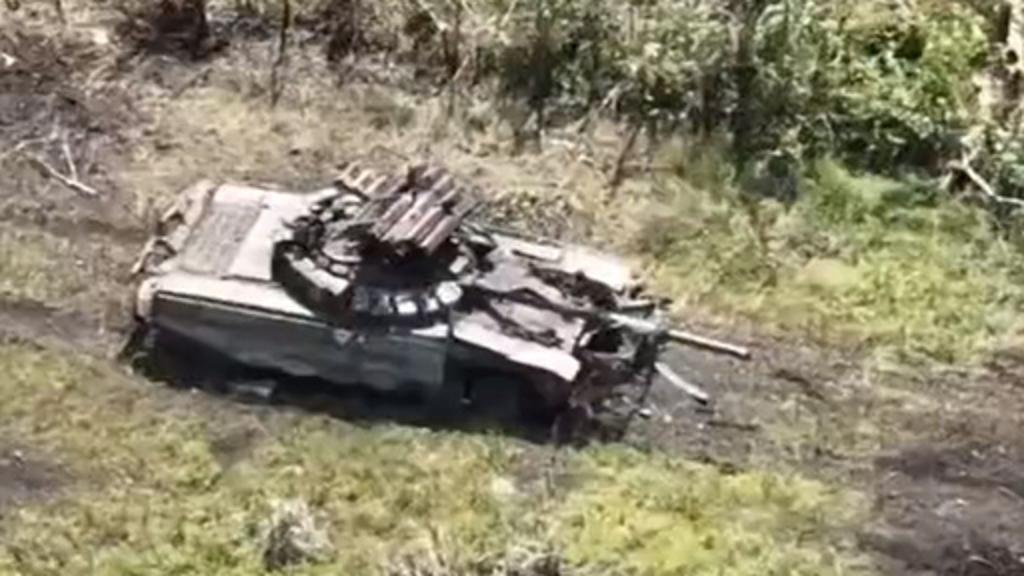TANK: (116, 152, 752, 444)
